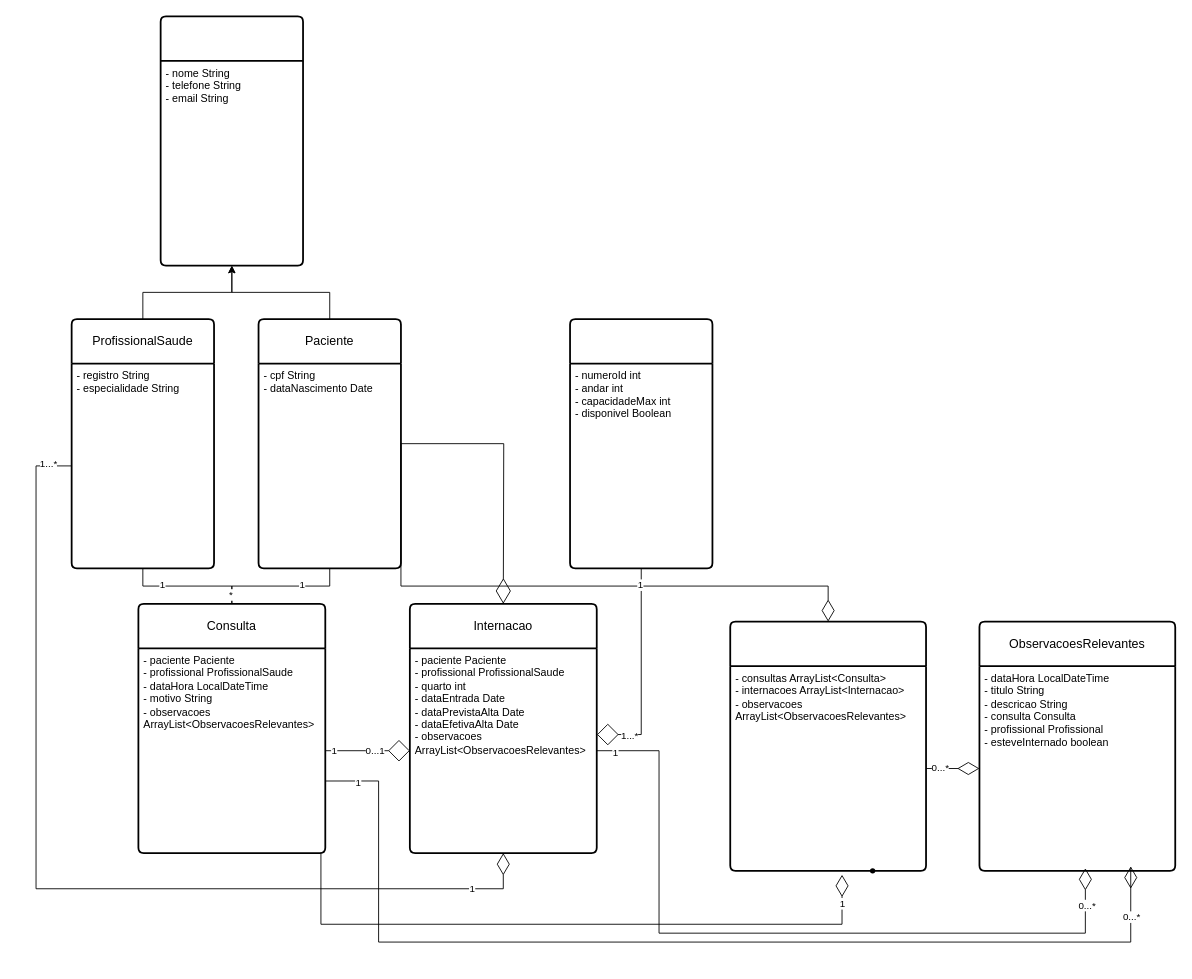
Image size: 1192x979. Some labels were removed from this diagram. Here are the shapes that lost their labels. From the top down, the box of each, then its label:
(159, 15, 303, 266): Usuario
(569, 318, 713, 569): Quarto
(729, 620, 926, 871): HistoricoMedico
